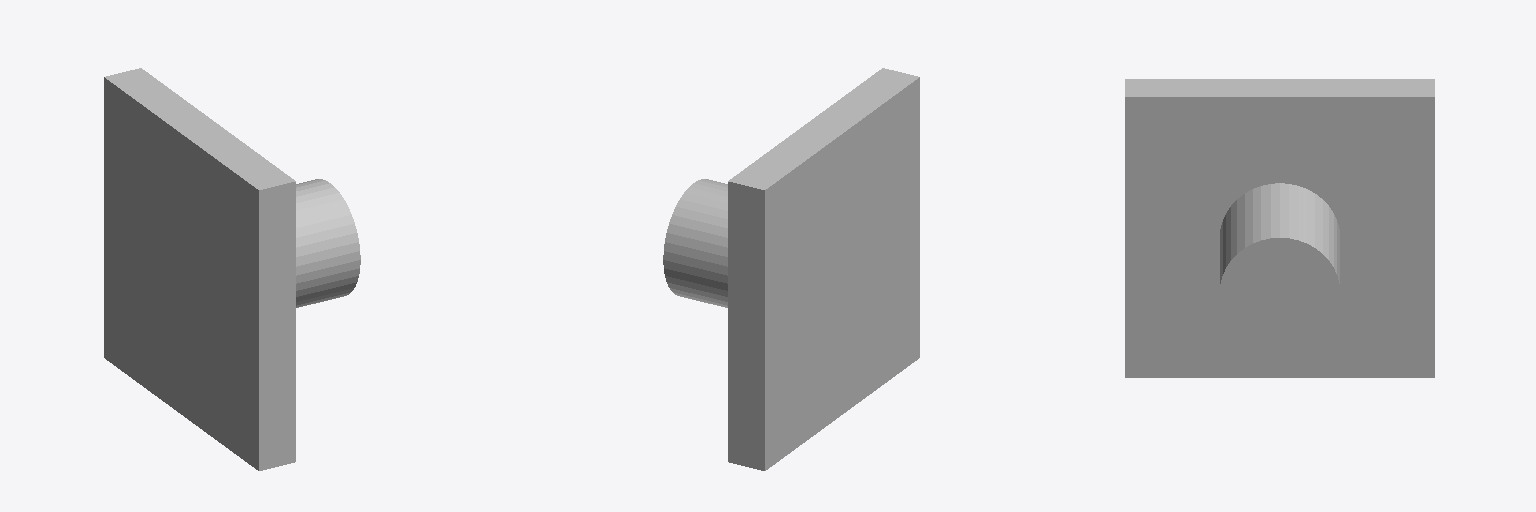
The model's file is camera_visual.obj.
3 views of the same model, side by side, from view 1: azimuth 30°, elevation 25°; view 2: azimuth 150°, elevation 25°; view 3: azimuth 270°, elevation 25° (orthographic).
Visible parts, largest first — view 1: camera; view 2: camera; view 3: camera.
Part boxes in pixels (left/top/right/bottom): camera: left=104, top=68, right=360, bottom=470; camera: left=663, top=68, right=919, bottom=470; camera: left=1125, top=79, right=1434, bottom=377.
Bounding box in the file's own units: 2 × 3.6 × 3.6.